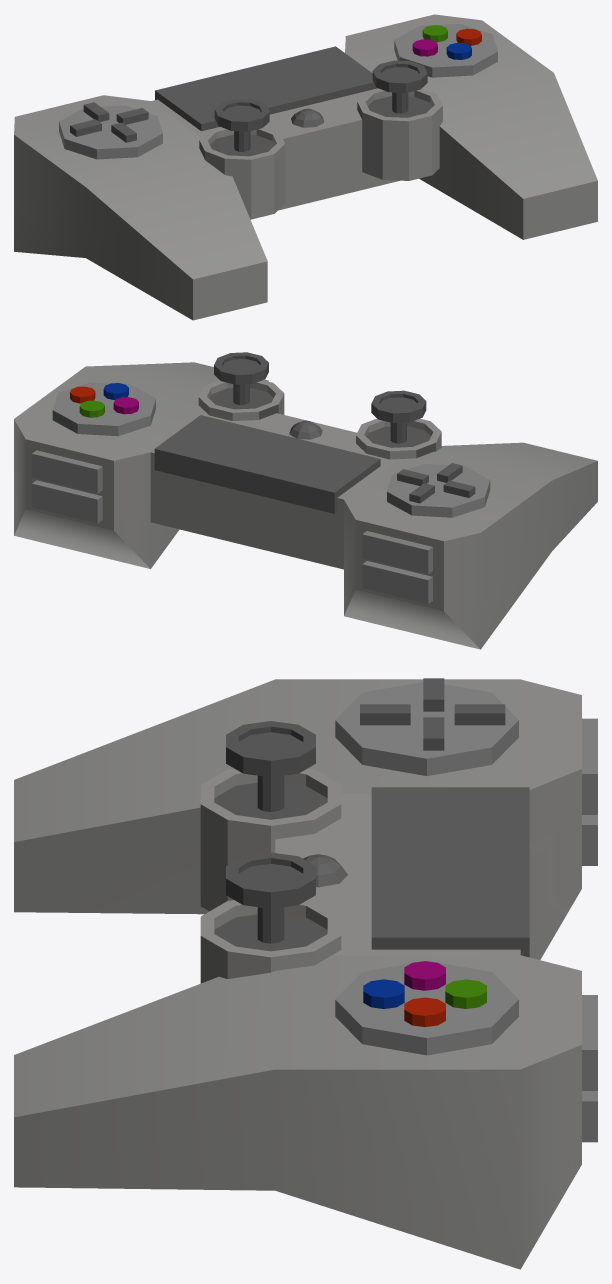
File: SM_Controller.fbx
3 views of the same model, one above another, from view 1: azimuth 30°, elevation 25°; view 2: azimuth 150°, elevation 25°; view 3: azimuth 270°, elevation 25° (orthographic). The views are drawn at different scales.
Parts seen in each view (by area): view 1: pasted__pCube1; view 2: pasted__pCube1; view 3: pasted__pCube1.
Part boxes in pixels (bbox=[...]): pasted__pCube1: bbox=[14, 14, 597, 320]; pasted__pCube1: bbox=[14, 352, 597, 649]; pasted__pCube1: bbox=[14, 678, 597, 1269].
Bounding box in the file's own units: 9.08 × 2.91 × 5.74.
